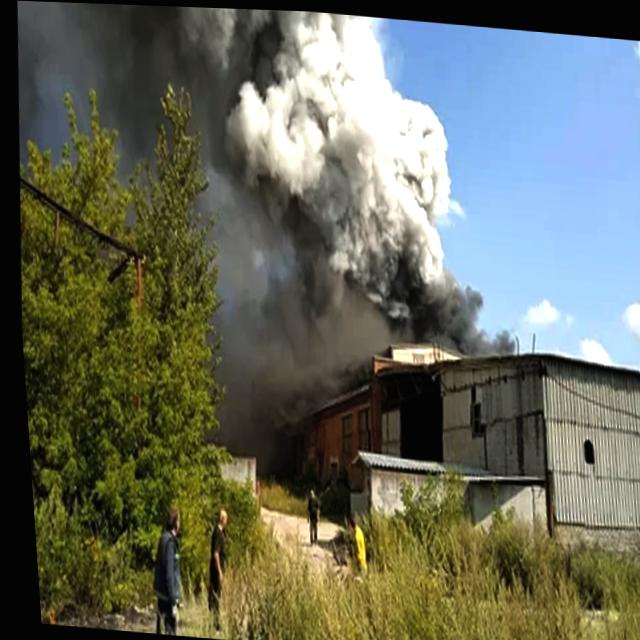no_helmet: (48, 1, 528, 358)
